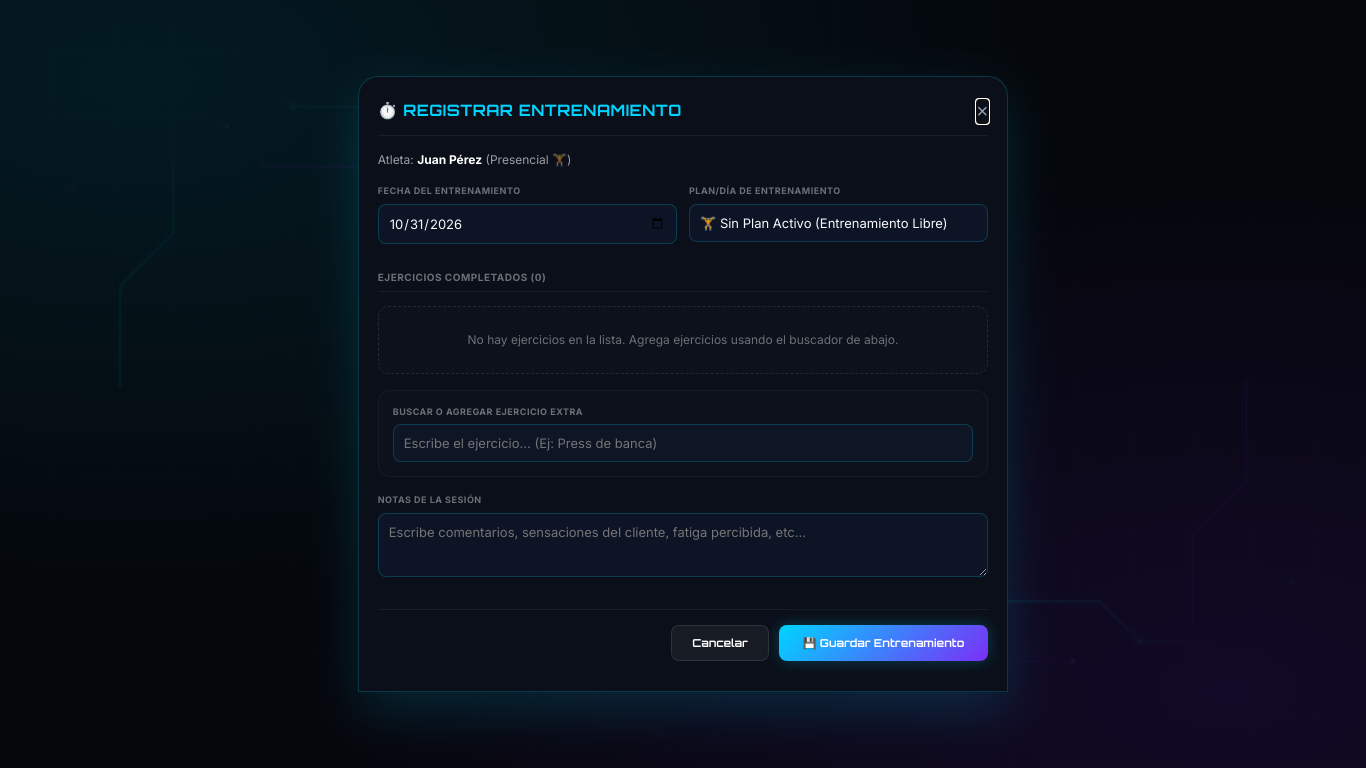
Test: RegisterSessionModal — buscador de ejercicios (autocomplete) › query >= 2 chars que coincide: escribir "Pre" → aparece "Press de Banca Plano con Barra"
The image size is (1366, 768).
Type "Pre" into the field with placeholder "Escribe el ejercicio... (Ej: Press de banca)" at (683, 443), box top-left (393, 424), bottom-right (973, 462)
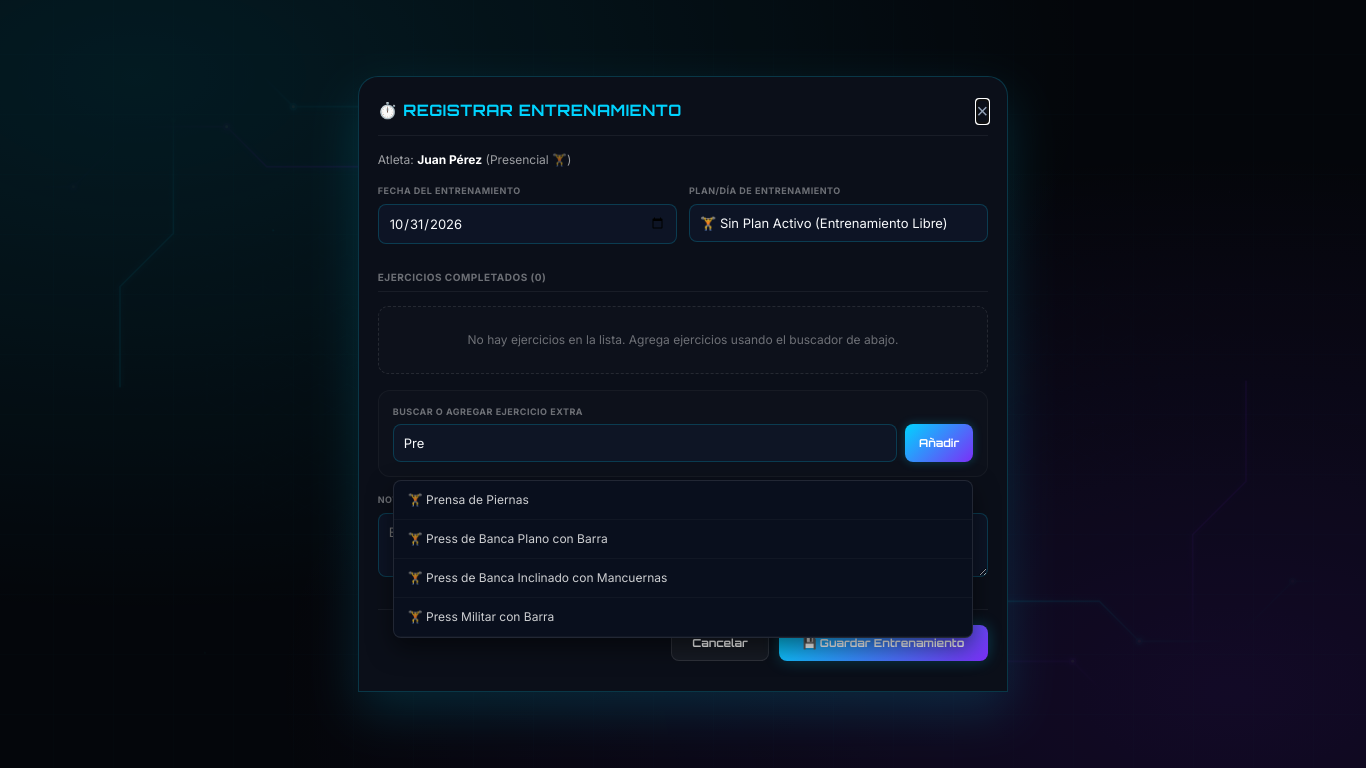
Now the button "🏋️ Press de Banca Plano con Barra" is shown, box top-left (394, 520), bottom-right (972, 559)
